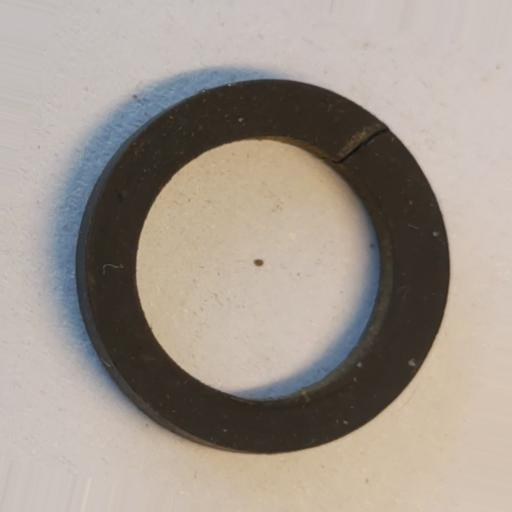defect: (334, 123, 388, 164)
